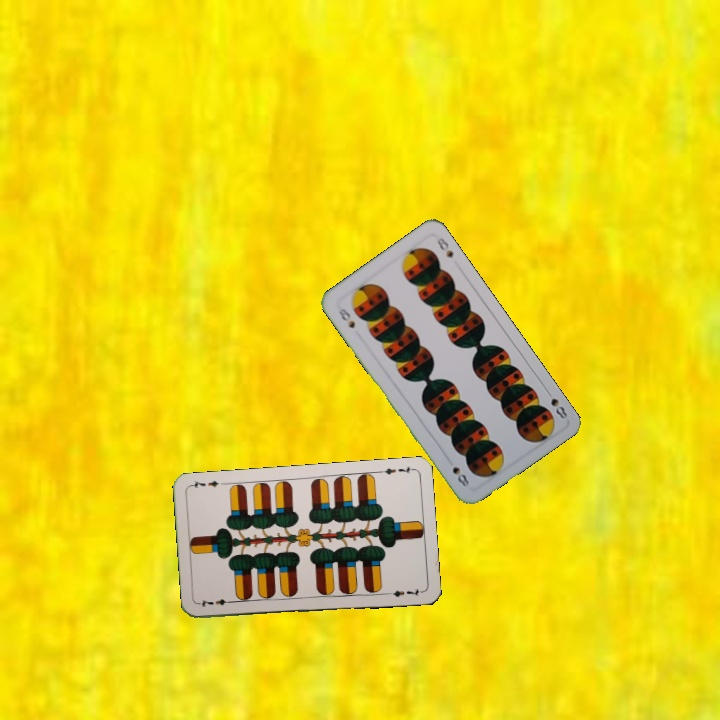E7: (375, 462, 416, 477), (196, 595, 236, 609)
S8: (542, 385, 570, 422), (334, 304, 358, 331)
